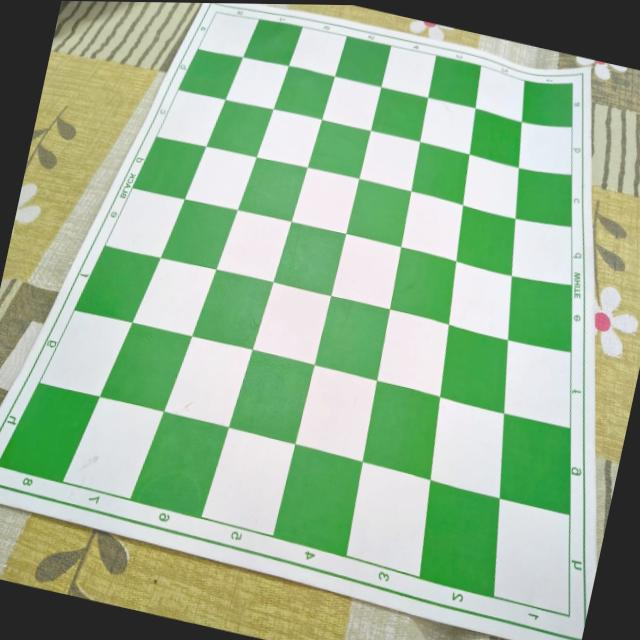square: (483, 500, 591, 616), (412, 481, 514, 596), (342, 461, 441, 579), (59, 390, 162, 503), (126, 408, 226, 519), (0, 376, 99, 488), (272, 442, 367, 557), (202, 428, 296, 538), (491, 414, 588, 514), (422, 399, 518, 500), (357, 381, 449, 482), (96, 318, 189, 413), (162, 331, 251, 428), (227, 349, 314, 444), (39, 307, 129, 397), (293, 367, 376, 462), (188, 263, 276, 352), (496, 340, 584, 428), (436, 323, 522, 413), (501, 271, 586, 356), (74, 238, 158, 324), (372, 309, 454, 397), (311, 294, 393, 381), (131, 254, 215, 338), (250, 280, 331, 365), (156, 193, 236, 273), (443, 261, 522, 340), (216, 206, 294, 284), (382, 245, 460, 322), (104, 184, 182, 260), (507, 217, 582, 294), (329, 236, 404, 313), (271, 221, 345, 297), (130, 129, 203, 202), (234, 152, 306, 225), (454, 204, 524, 276), (183, 143, 254, 213), (397, 189, 468, 259), (510, 162, 580, 232), (290, 165, 359, 235), (345, 177, 412, 246), (404, 138, 472, 204), (459, 154, 526, 218), (156, 86, 224, 149), (514, 117, 580, 181), (204, 94, 270, 158), (359, 128, 422, 191), (257, 107, 321, 169), (306, 116, 370, 177), (519, 71, 581, 133), (178, 43, 241, 102), (466, 107, 526, 168), (225, 55, 288, 112), (418, 95, 478, 154), (470, 65, 530, 122), (274, 62, 334, 119), (371, 84, 430, 141), (426, 52, 484, 109), (196, 8, 258, 61), (322, 75, 380, 131), (243, 13, 301, 69), (383, 42, 438, 97), (288, 25, 346, 77), (337, 32, 391, 87)
